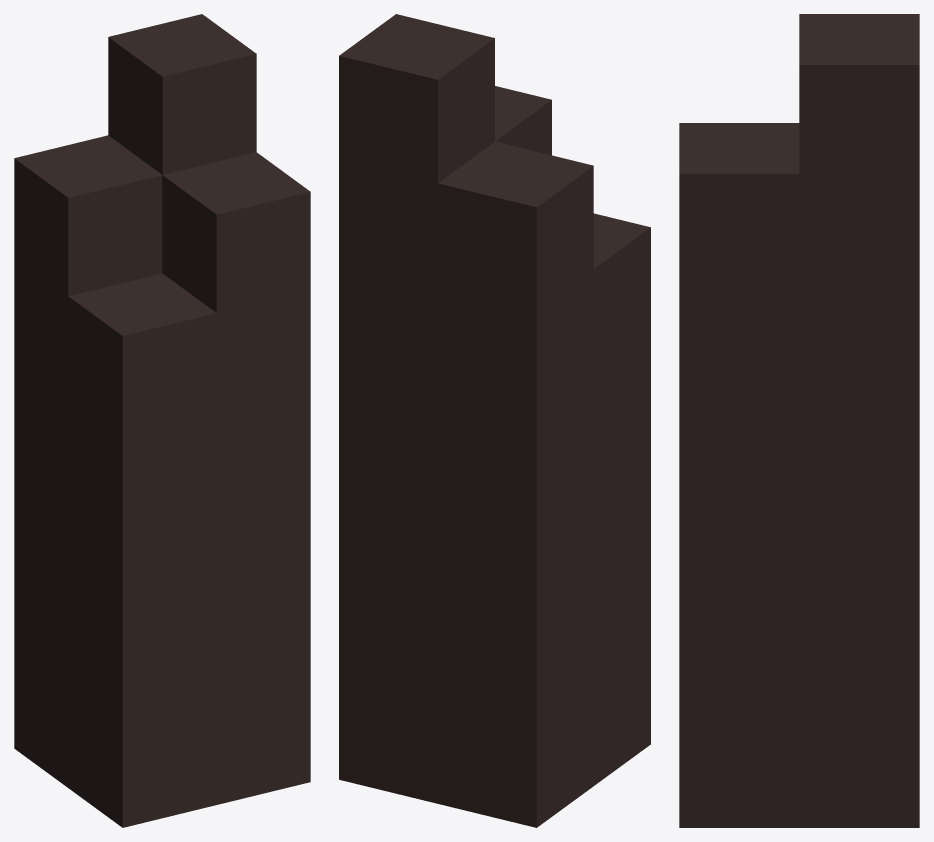
The model's file is fox__leg_bl.obj.
3 renders of one model, left to right at view 1: azimuth 30°, elevation 25°; view 2: azimuth 150°, elevation 25°; view 3: azimuth 270°, elevation 25°, orthographic. The views are drawn at different scales.
Parts seen in each view (by area): view 1: fox__leg_bl; view 2: fox__leg_bl; view 3: fox__leg_bl.
Part boxes in pixels (<box>): fox__leg_bl: <box>14,14,310,827</box>; fox__leg_bl: <box>339,14,650,827</box>; fox__leg_bl: <box>679,14,919,827</box>.
Size of the model in its own units: 0.2 by 0.7 by 0.2.
Materials: 1 (1 with a texture image).
